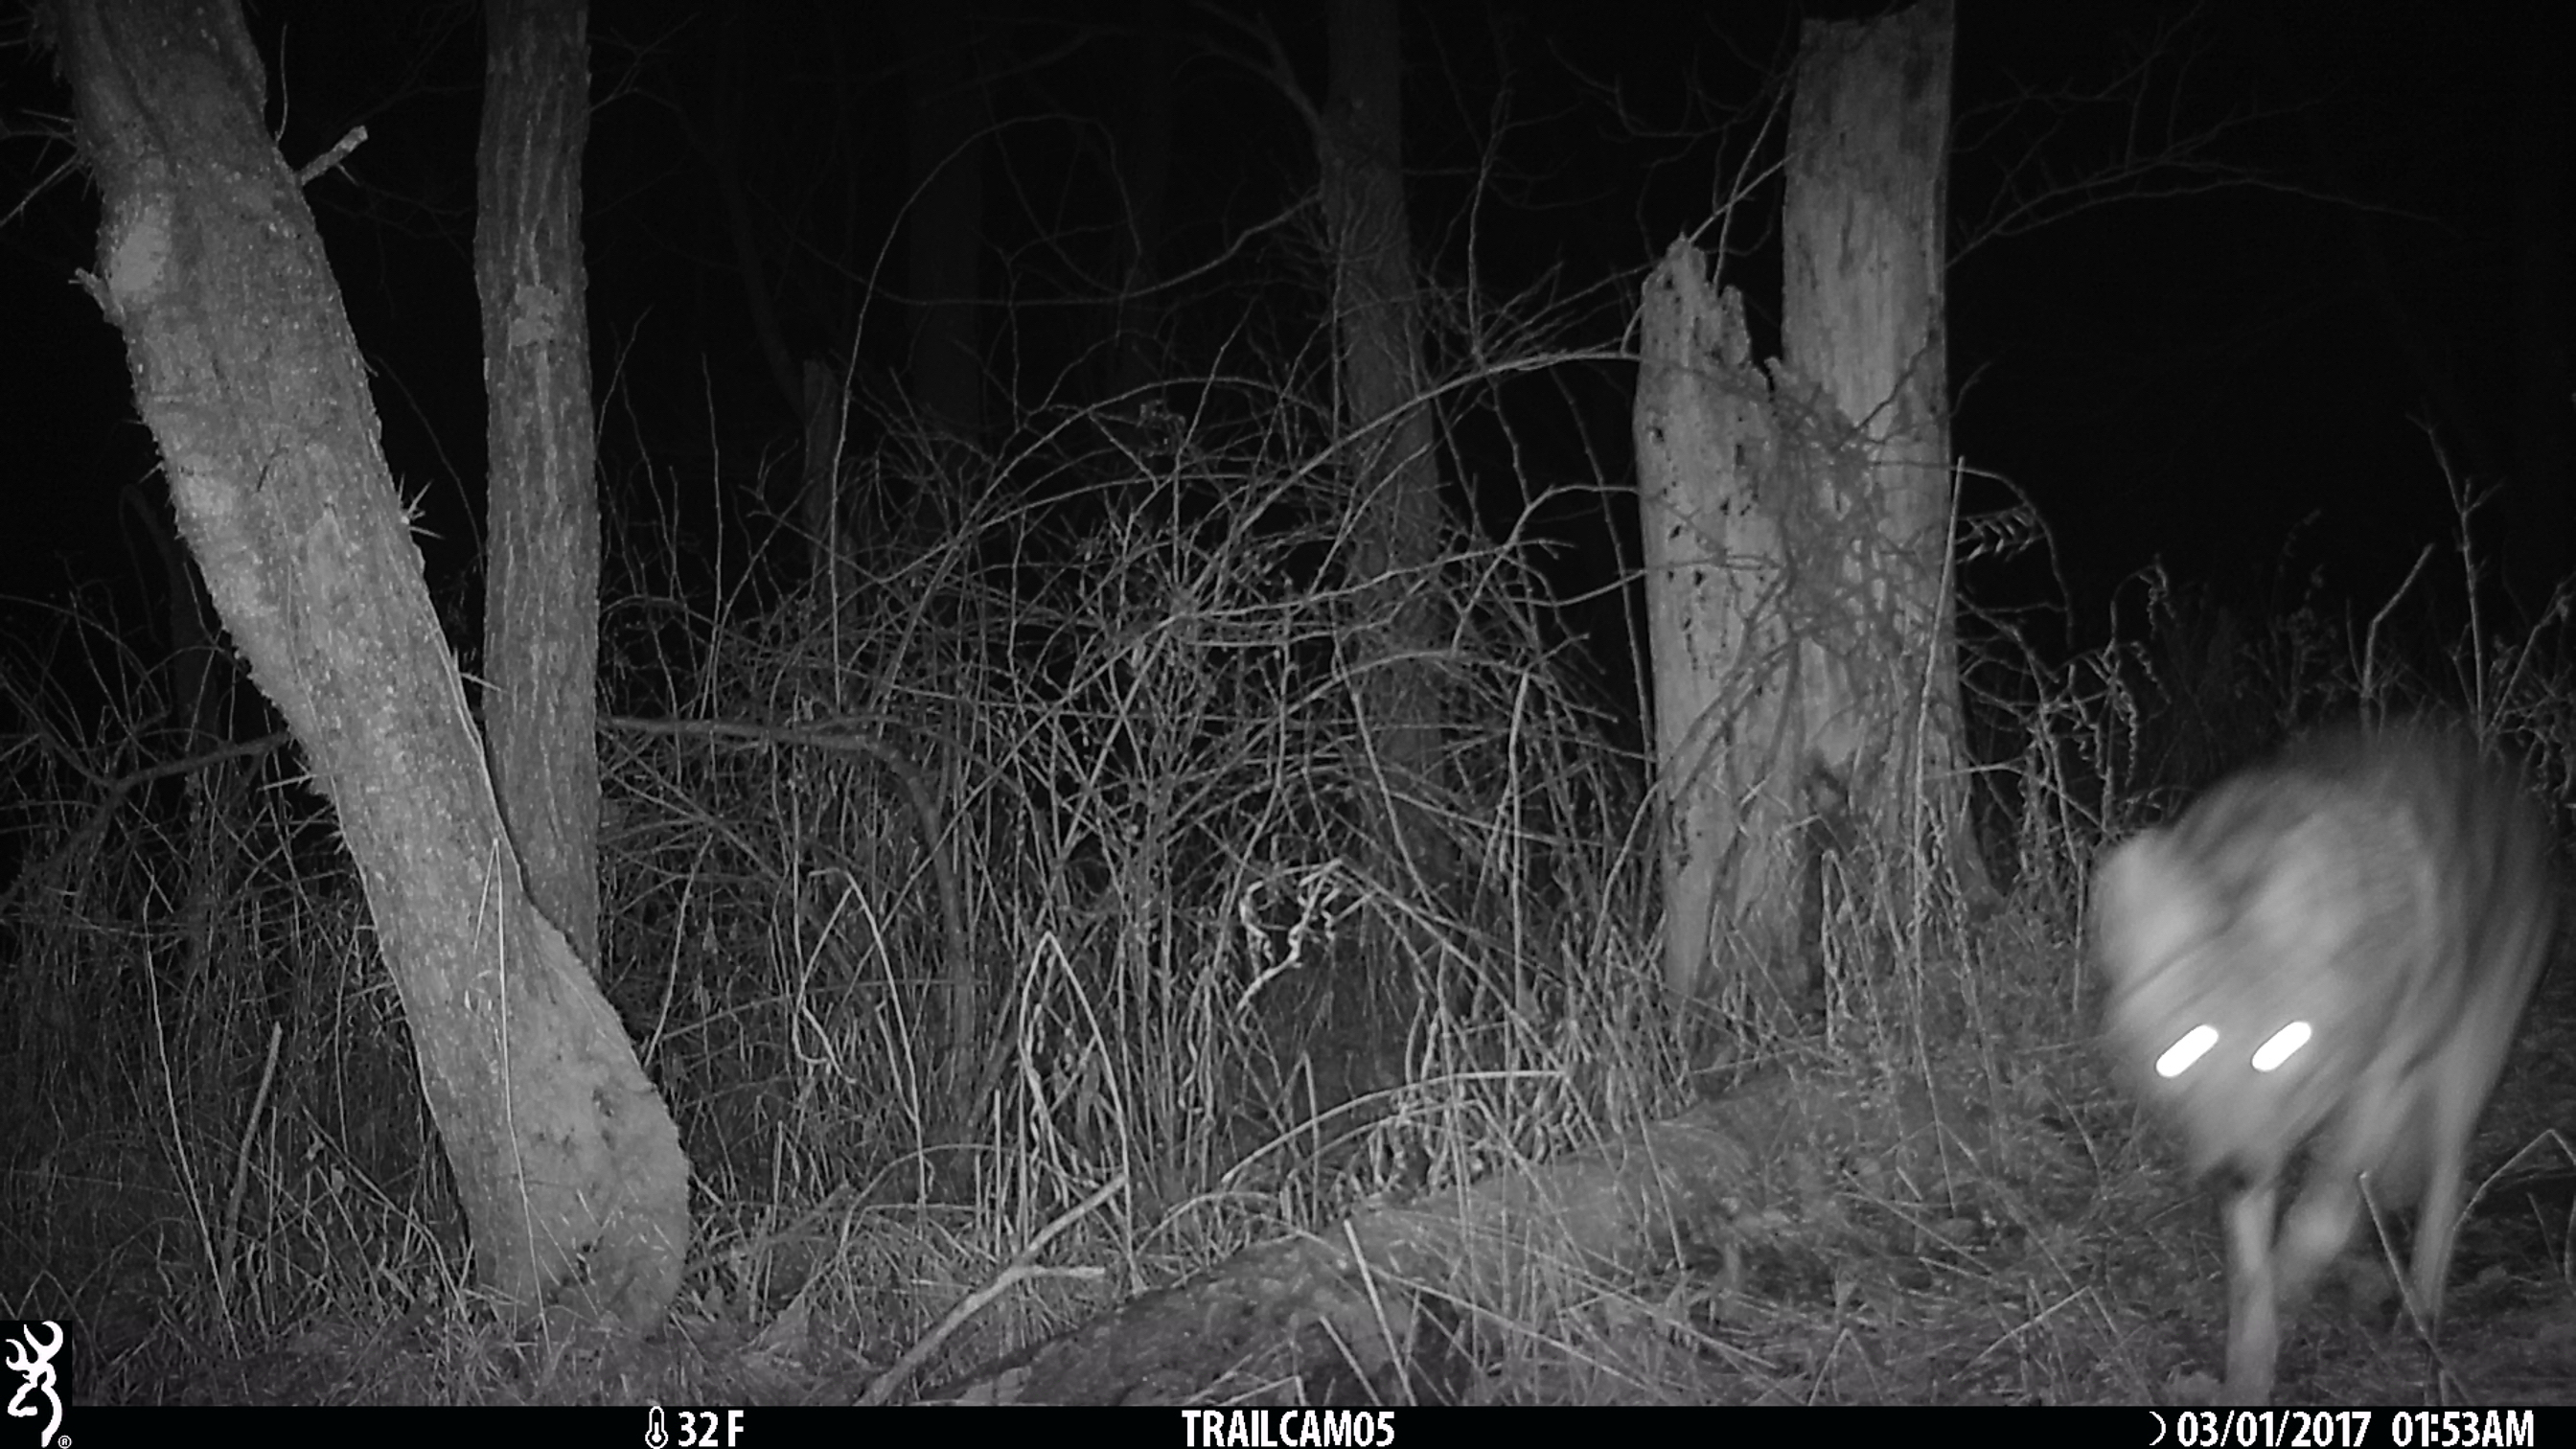Coyote: (2082, 715, 2562, 1407)
